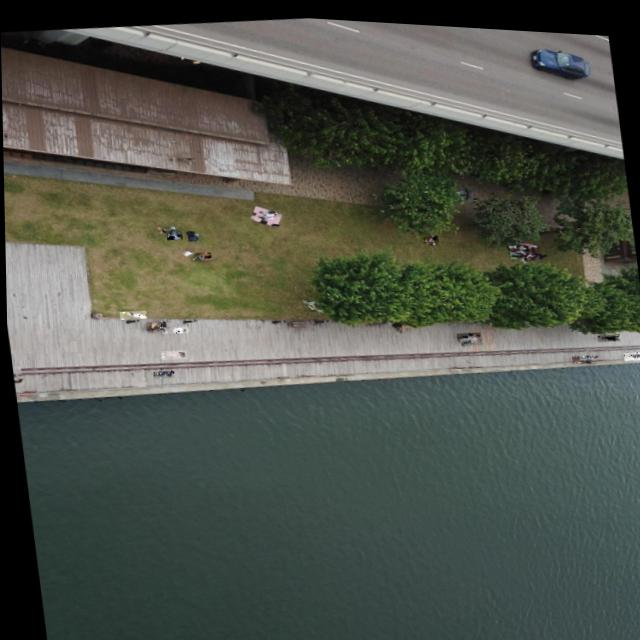Person: (157, 346, 184, 359), (115, 307, 144, 319), (151, 222, 173, 235), (453, 325, 478, 336), (159, 323, 186, 333), (456, 330, 480, 341), (163, 226, 181, 239), (594, 325, 617, 335), (190, 248, 209, 260), (9, 365, 21, 384), (142, 318, 161, 330), (150, 367, 172, 377), (569, 347, 589, 358), (620, 343, 640, 354), (421, 229, 437, 239), (577, 347, 598, 354), (257, 206, 275, 214), (256, 209, 271, 217)
